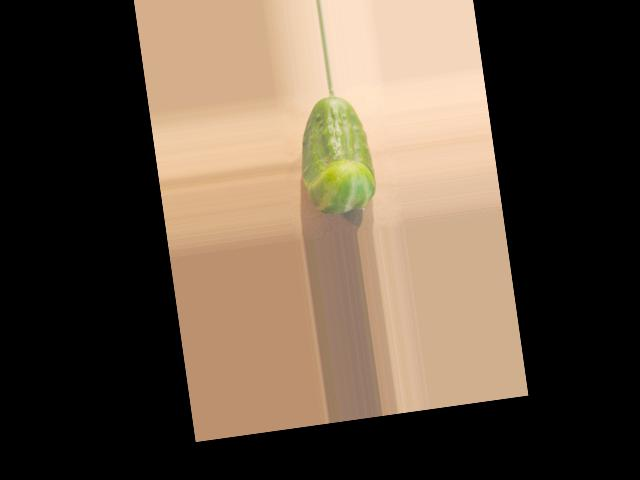cucumber: (292, 91, 380, 217)
